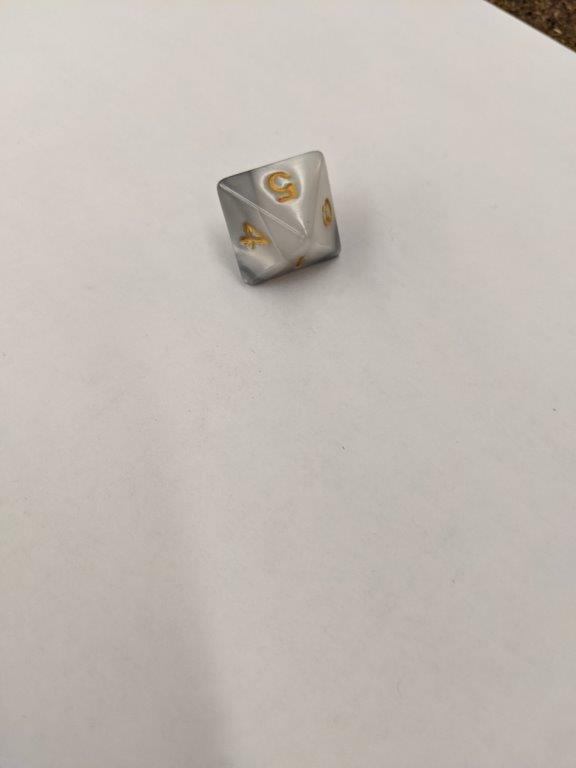d8-5: (216, 146, 345, 289)
